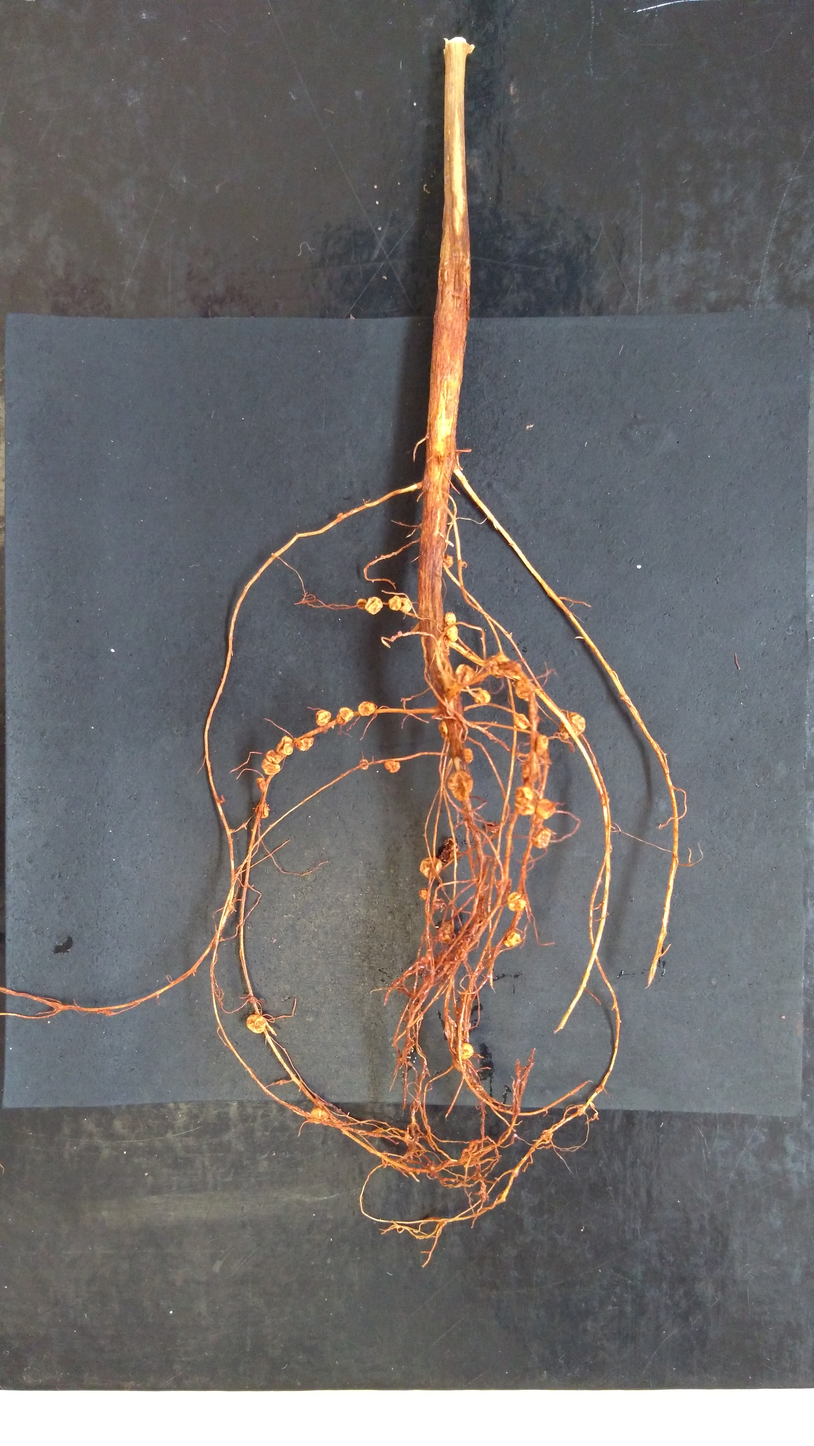nodule: (556, 709, 587, 743), (446, 770, 475, 804), (485, 653, 522, 679), (517, 753, 541, 786), (260, 748, 287, 776), (512, 676, 537, 705), (514, 784, 535, 817), (419, 855, 443, 880), (453, 662, 477, 686), (536, 796, 557, 822), (245, 1012, 267, 1035), (505, 890, 527, 913), (531, 828, 552, 849), (335, 705, 355, 727), (274, 734, 294, 756), (308, 1106, 331, 1125), (533, 733, 551, 757), (312, 708, 333, 727), (356, 700, 378, 718), (471, 688, 493, 706), (365, 596, 384, 616), (502, 930, 522, 949), (437, 921, 453, 944), (295, 736, 315, 753), (513, 712, 530, 731), (254, 801, 271, 819), (459, 1041, 475, 1060), (399, 596, 414, 615), (383, 760, 402, 774), (442, 610, 458, 626), (387, 595, 402, 612), (462, 746, 474, 767), (446, 624, 458, 643), (254, 777, 267, 793), (439, 720, 448, 740), (358, 757, 370, 771), (443, 554, 454, 569), (355, 598, 368, 610), (418, 887, 428, 902)
